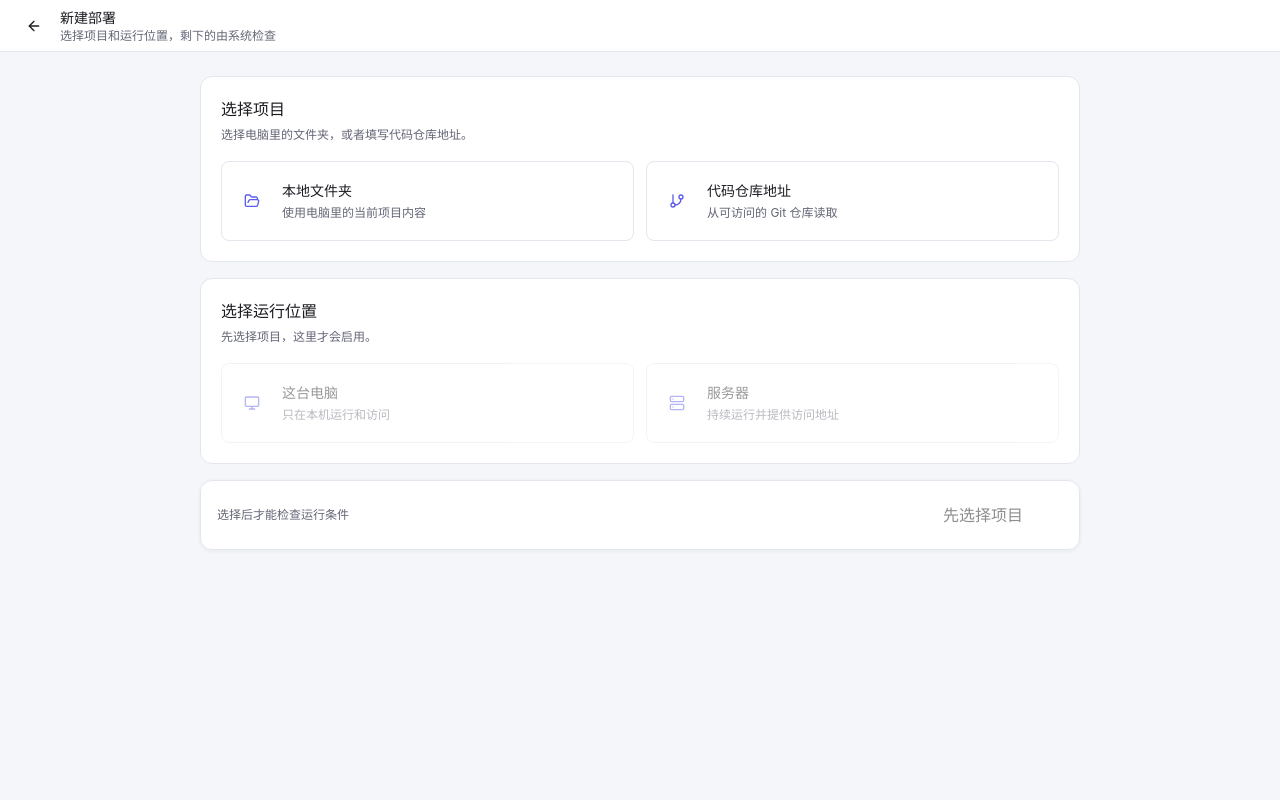
Test: DeploymentEditorController › 把本地文件夹到本机运行接成可验证的单页闭环
Click the button "本地文件夹 使用电脑里的当前项目内容" at (252, 201), box [221,161,634,241]
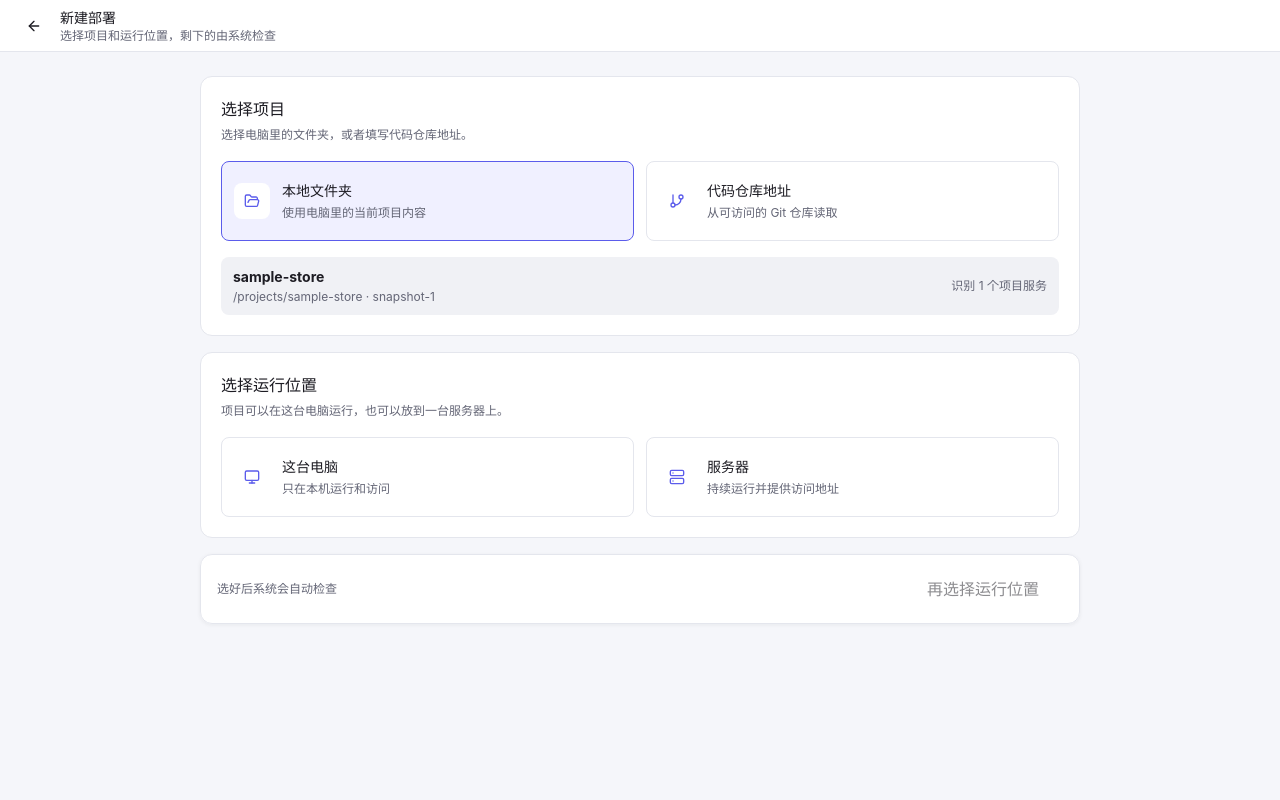
Now the text "/projects/sample-store" is shown, box [233,289,435,304]
Click the button "这台电脑 只在本机运行和访问" at (252, 477), box [221,437,634,517]
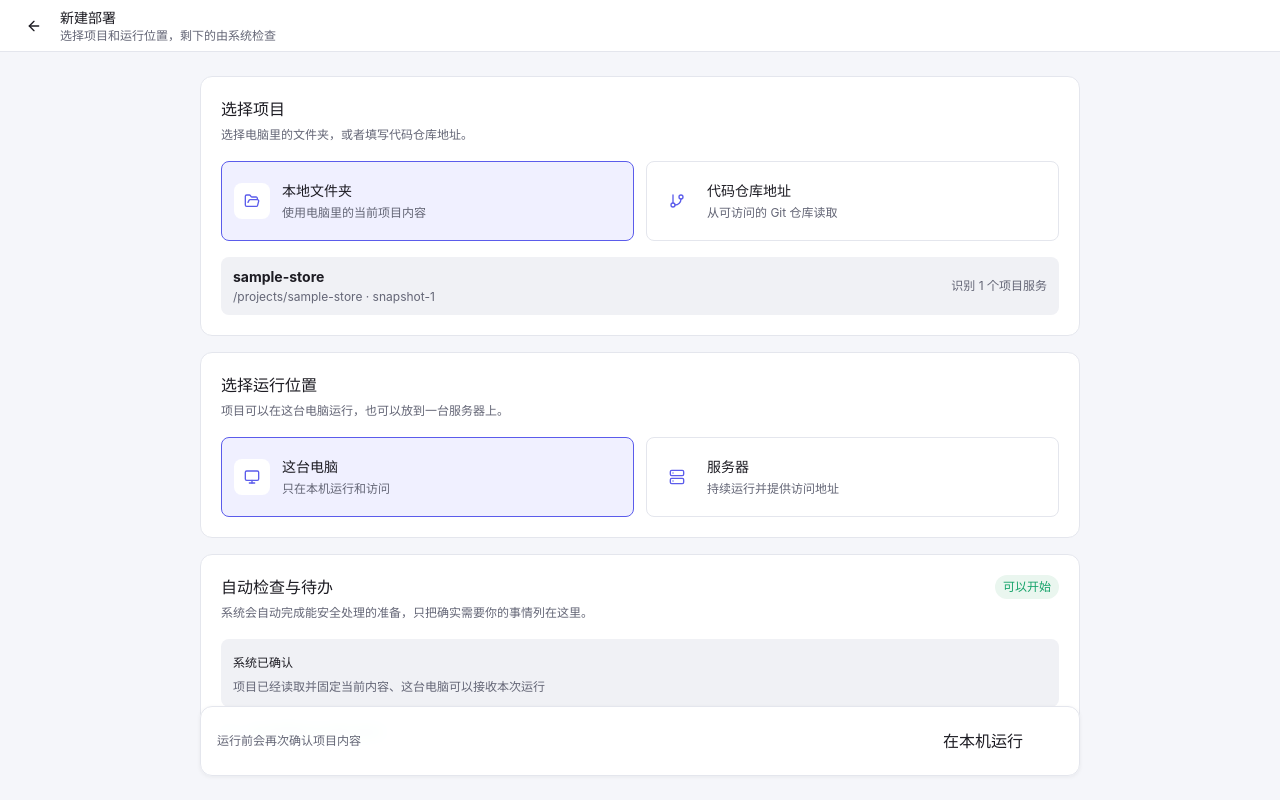
Now the button "在本机运行" is enabled
Click the button "在本机运行" at (983, 741), box [903,723,1063,759]
(page scrolled)
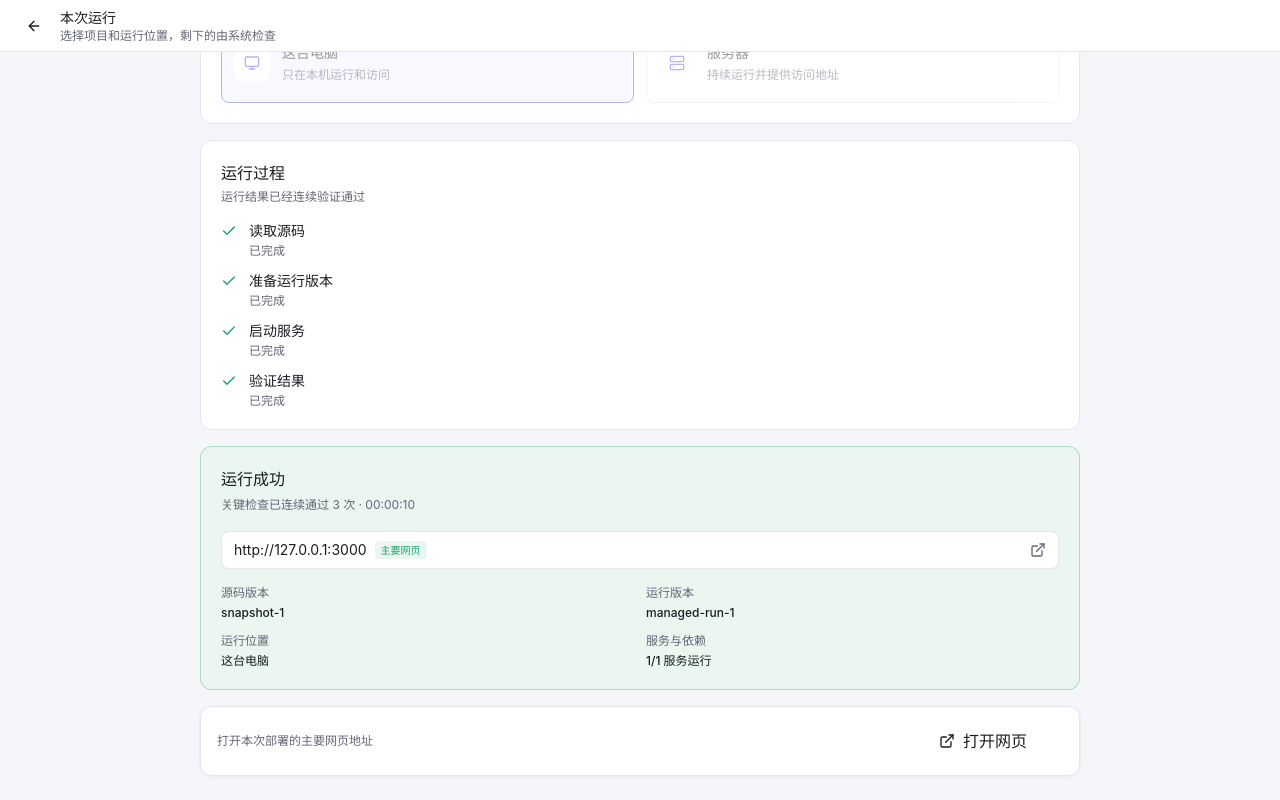
Now the heading "运行成功" is shown, box [221,469,285,489]
Now the text "http://127.0.0.1:3000" is shown, box [234,540,366,560]
Now the text "关键检查已连续通过 3 次 · 00:00:10" is shown, box [221,497,415,512]
